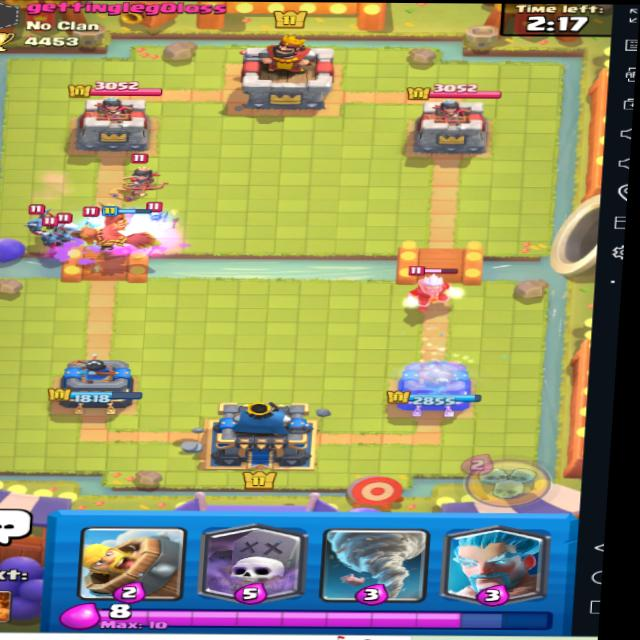ice-wizard: (394, 262, 468, 314)
minion: (26, 216, 68, 255), (12, 205, 72, 232)
princess: (105, 152, 169, 199)
skeleton: (57, 206, 85, 236), (141, 204, 175, 226)
